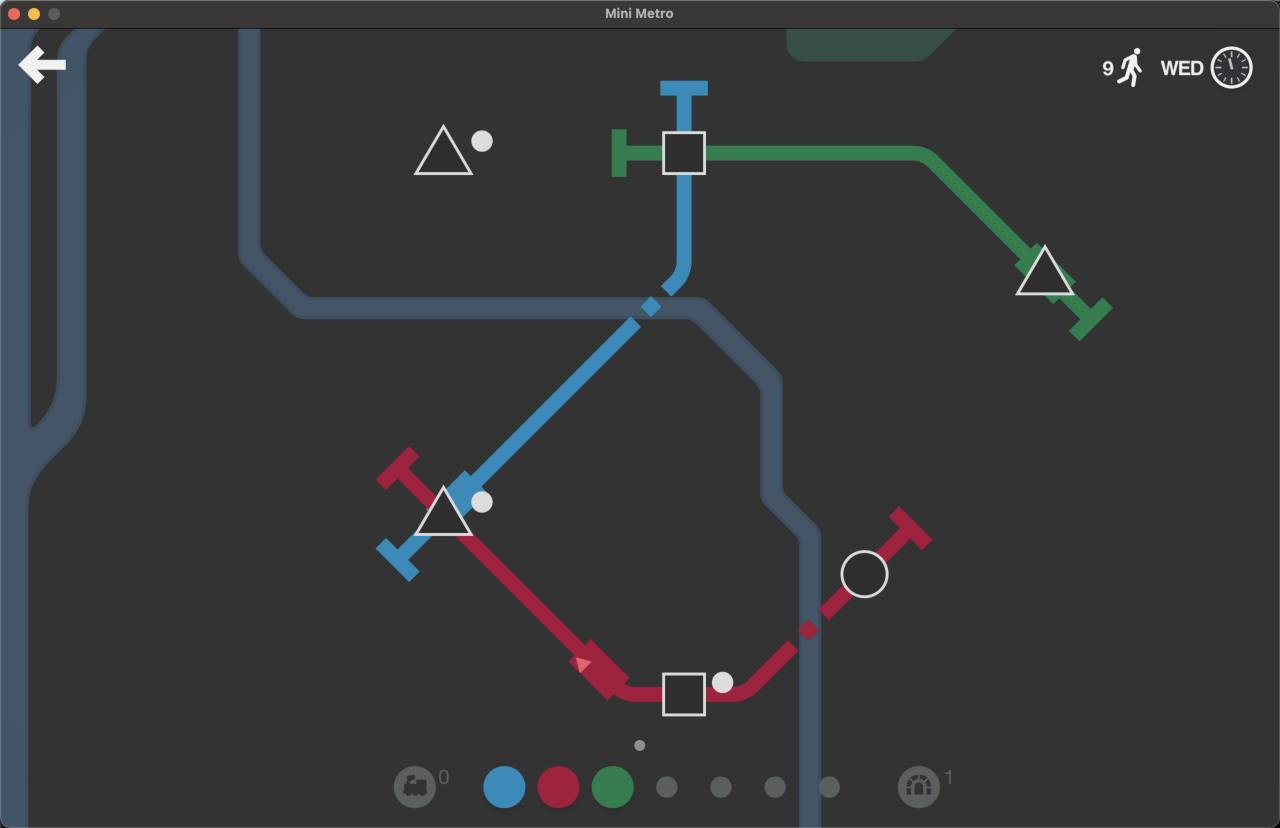CIRCLE: (839, 548, 891, 600)
SQUARE: (661, 130, 709, 176), (661, 671, 708, 717)
TRIANGLE: (410, 482, 480, 539), (412, 123, 478, 178), (1014, 244, 1076, 299)
